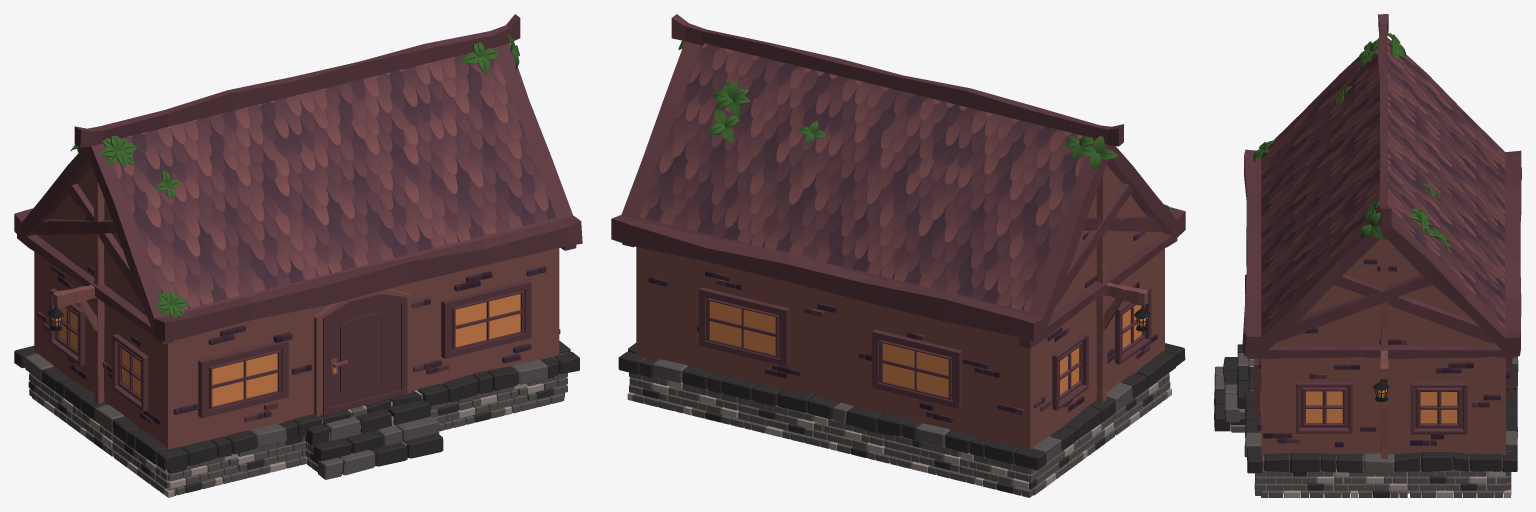
Rendered from casa-pedra7.fbx.
3 renders of one model, left to right at view 1: azimuth 30°, elevation 25°; view 2: azimuth 150°, elevation 25°; view 3: azimuth 270°, elevation 25°, orthographic. The views are drawn at different scales.
Parts seen in each view (by area): view 1: CasaPedra7, PortaCasaPedra7; view 2: CasaPedra7; view 3: CasaPedra7.
Boxes of the visible parts, bbox=[...] form: CasaPedra7: bbox=[14, 14, 582, 497]; PortaCasaPedra7: bbox=[323, 293, 407, 414]; CasaPedra7: bbox=[611, 14, 1185, 497]; CasaPedra7: bbox=[1214, 14, 1521, 497].
Bounding box in the file's own units: 7.36 × 4.61 × 4.31.
